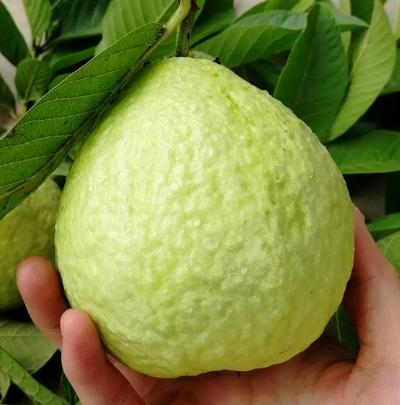guava_A: (53, 55, 356, 380)
